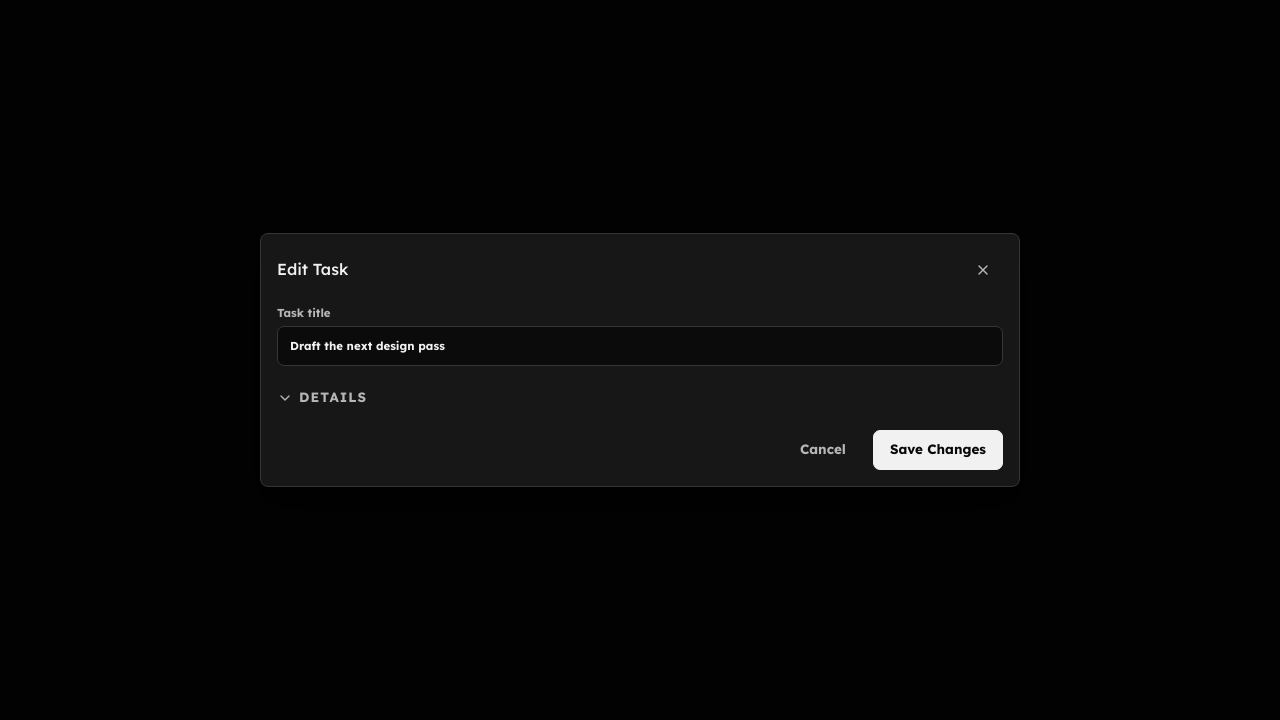
Scenario: TaskEditor › shows History as an edit-only Details tab and mounts history only when selected
The image size is (1280, 720).
Click the button "DETAILS": [322, 398] box [277,378,367,418]
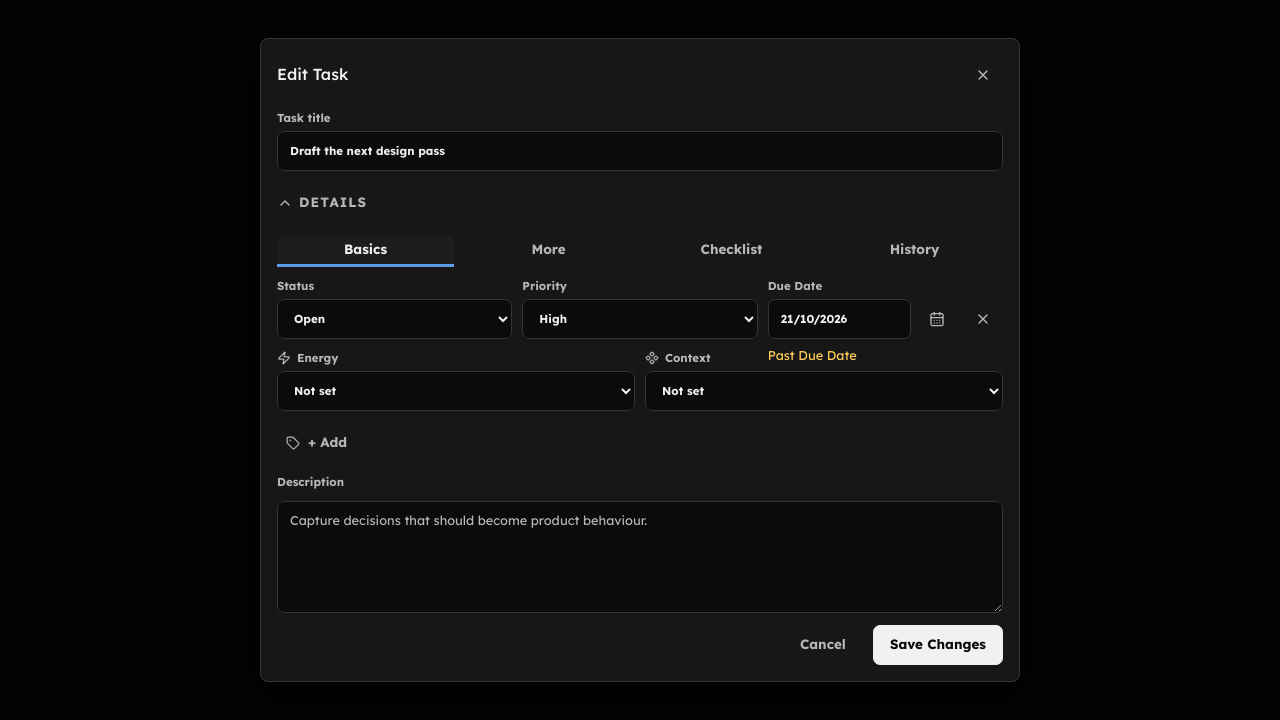
Expected: the text "Seed task created" is not shown
Expected: the tabs read "Basics", "More", "Checklist", "History", in this order
Click the tab "History": [914, 251] box [826,235,1003,267]
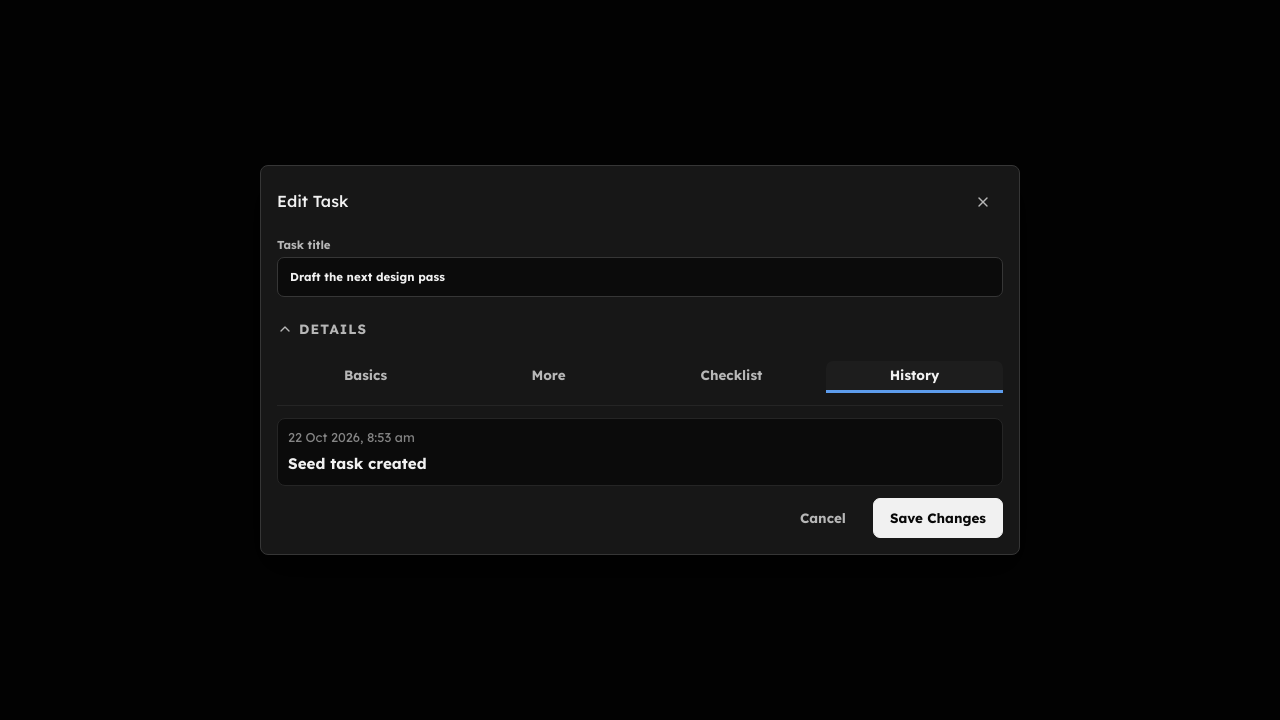
Expected: the text "Seed task created" is shown, [288,454,427,473]
Click the tab "Basics": [366, 377] box [277,361,454,393]
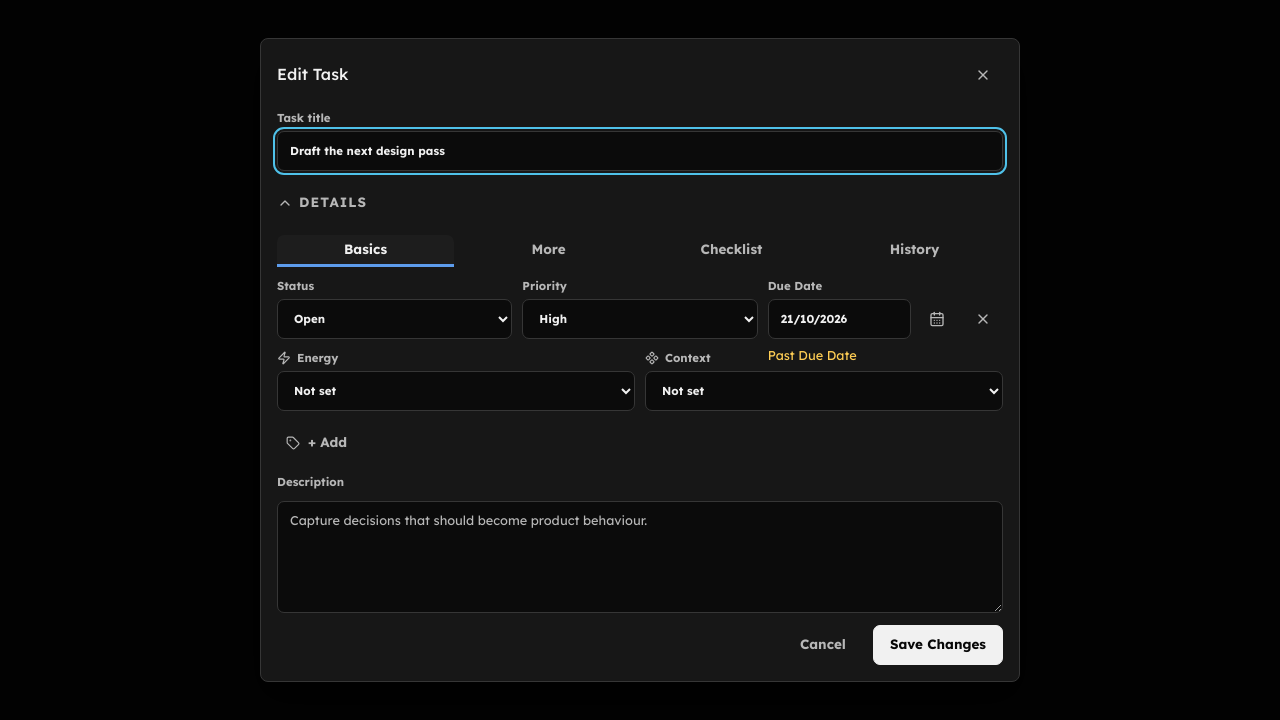
Expected: the text "Seed task created" is gone
